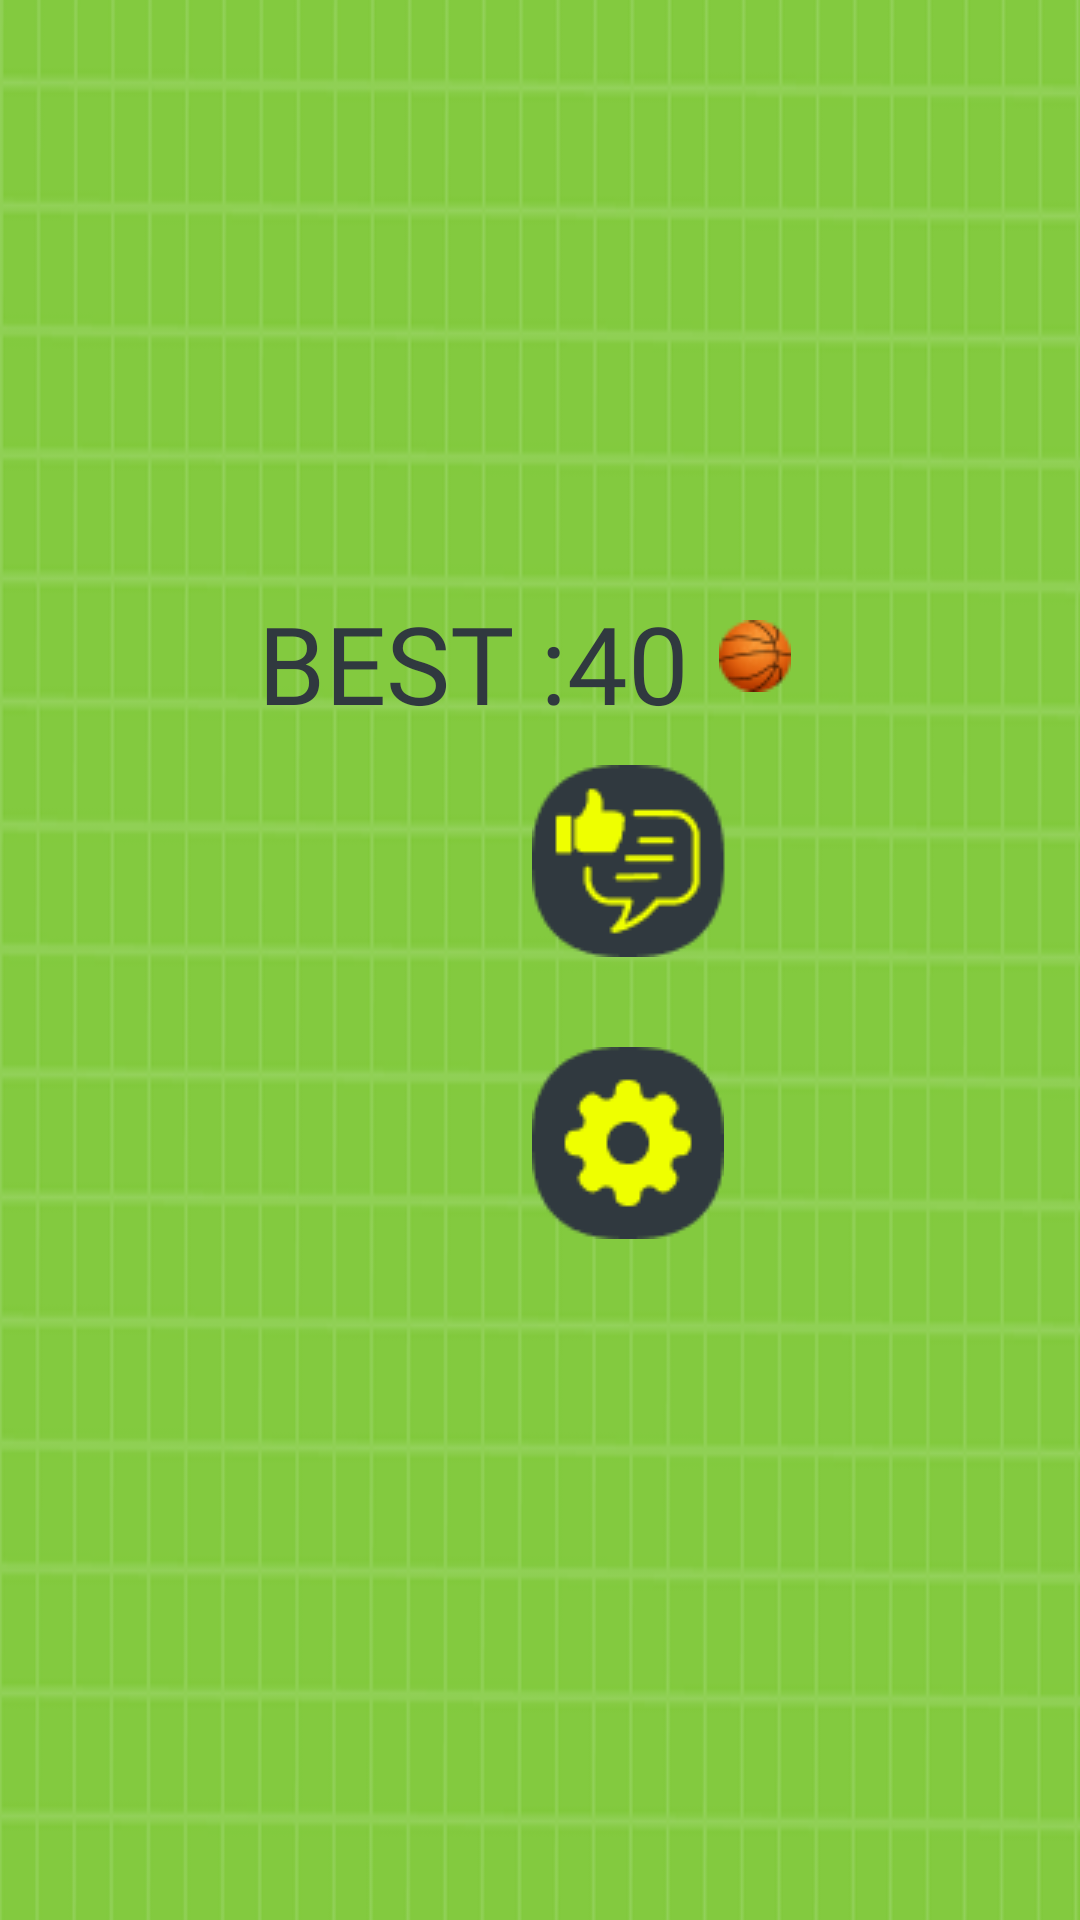

Icon bounding boxes for this 1080x1920 phone screenshot, format (x1, y1, x2, y2):
basket ball: (719, 620, 791, 692)
message: (532, 765, 725, 957)
settings: (532, 1047, 724, 1239)
